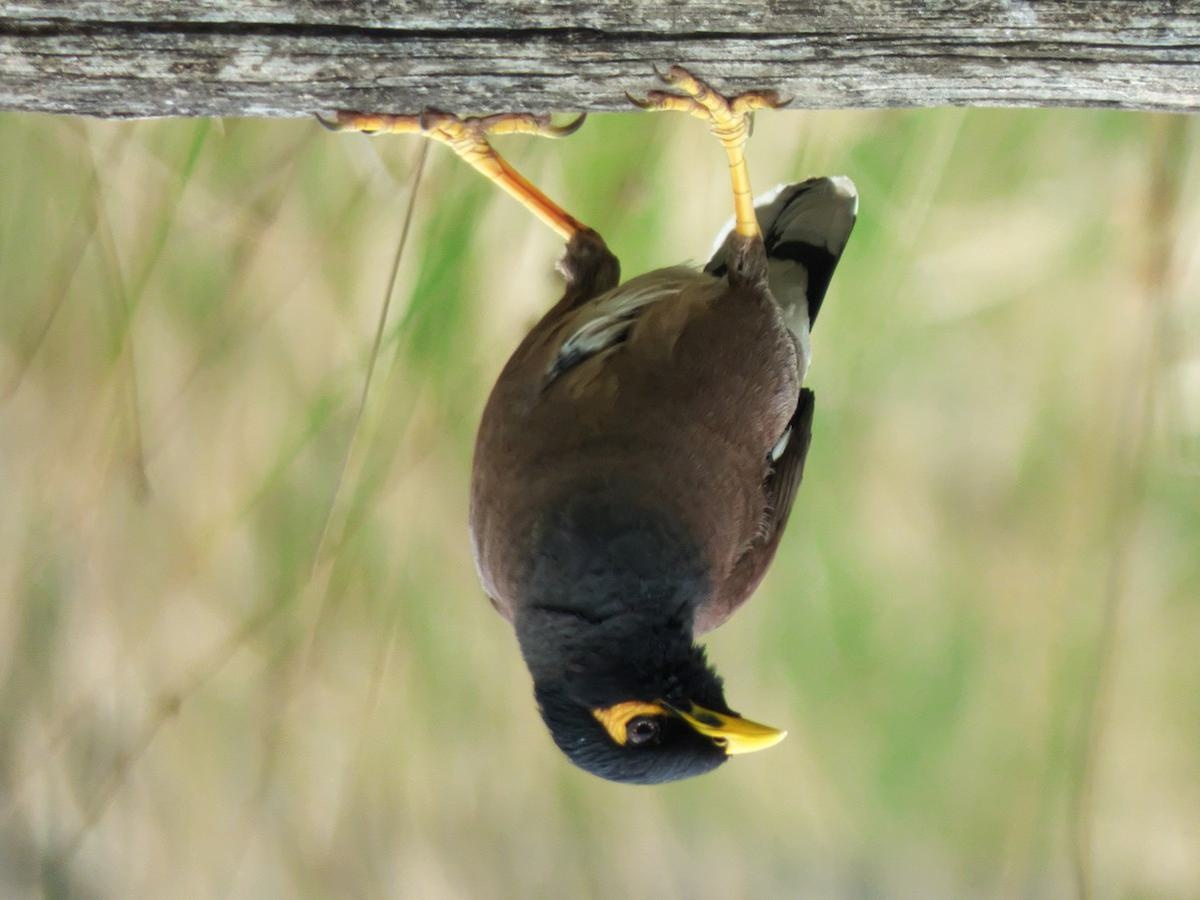myna: (411, 61, 857, 793)
